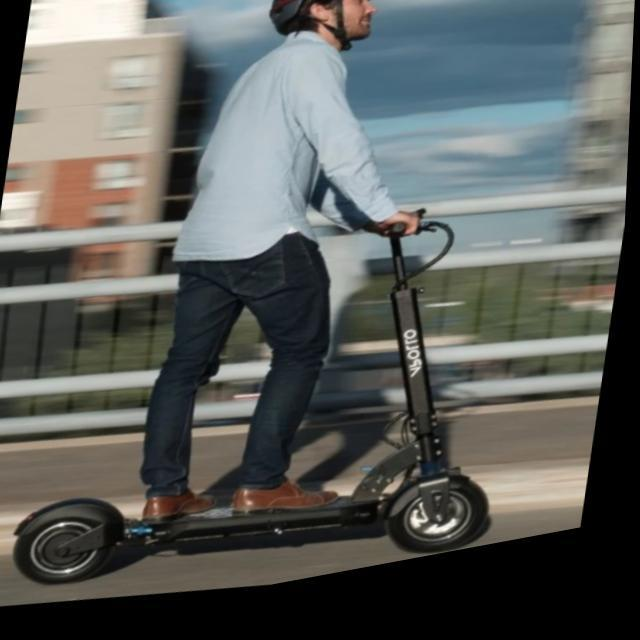Helmet: (268, 0, 377, 60)
